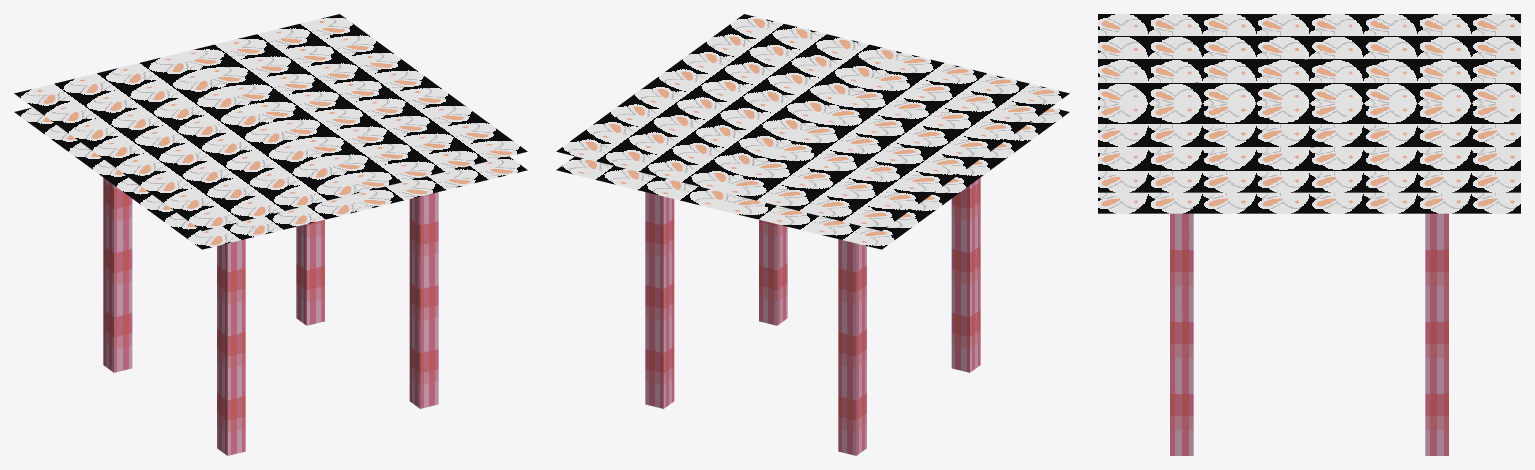
File: 3841kg3_ser22.gltf
3 renders of one model, left to right at view 1: azimuth 30°, elevation 25°; view 2: azimuth 150°, elevation 25°; view 3: azimuth 270°, elevation 25°, orthographic. The views are drawn at different scales.
Visible parts, largest first — view 1: 3841kg3_ser22; view 2: 3841kg3_ser22; view 3: 3841kg3_ser22.
Boxes of the visible parts, x1=… form: 3841kg3_ser22: x1=14, y1=14, x2=527, y2=455; 3841kg3_ser22: x1=556, y1=14, x2=1069, y2=455; 3841kg3_ser22: x1=1098, y1=14, x2=1520, y2=455.
Size of the model in its own units: 0.9751 by 0.75 by 0.9751.
2 materials, 2 textured.
